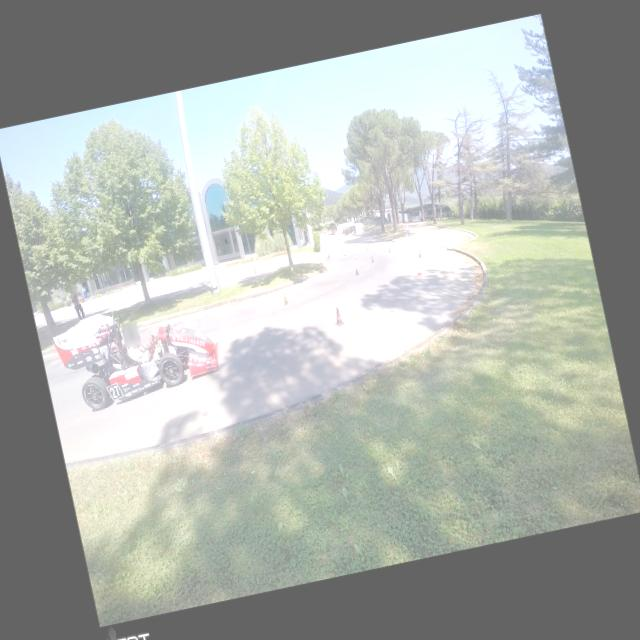orange_cone: (414, 264, 422, 276)
unknown_cone: (331, 306, 345, 326), (280, 292, 290, 306), (369, 254, 375, 264), (354, 266, 359, 276), (386, 246, 392, 253), (417, 250, 422, 258), (354, 252, 358, 259), (326, 253, 330, 259), (364, 246, 368, 252), (341, 248, 344, 252)
yellow_cone: (342, 253, 346, 259)
